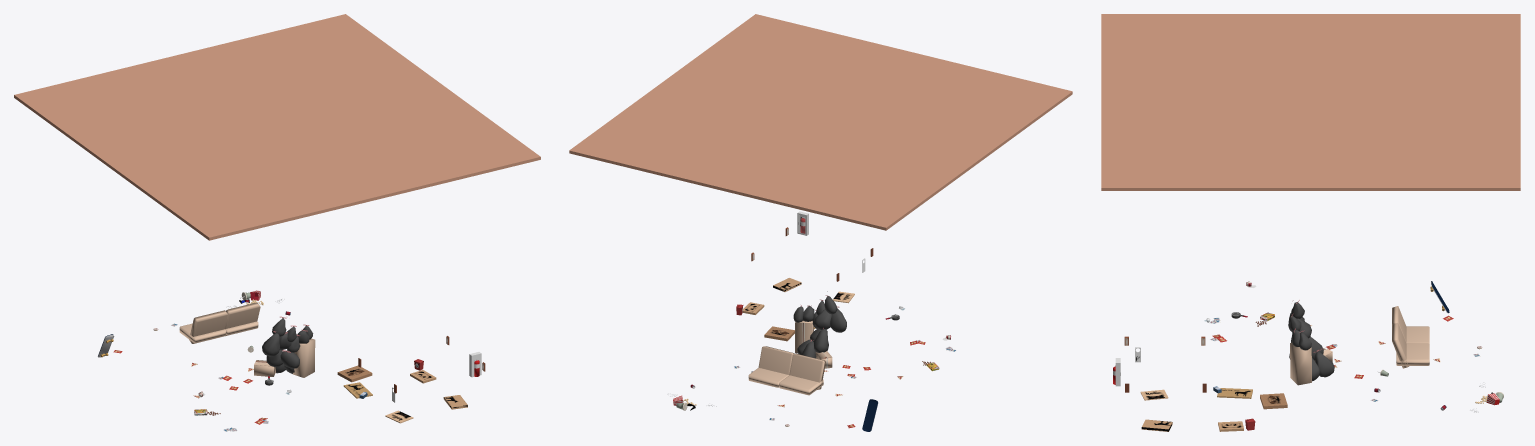
The model's file is MicahPushExtra.glb.
3 renders of one model, left to right at view 1: azimuth 30°, elevation 25°; view 2: azimuth 150°, elevation 25°; view 3: azimuth 270°, elevation 25°, orthographic. The views are drawn at different scales.
Visible parts, largest first — view 1: ceil, Pillows.002, Pillows.003, CardboardBoxSmall.001; view 2: ceil, Pillows.002, Pillows.003, Pillows, TrashBags.004, Pillows.001; view 3: ceil, CardboardBoxSmall.001, Pillows.001, TrashBags.002, Pillows.003, Pillows.
Boxes of the visible parts, x1,y1,x2,y2 form: ceil: [14, 14, 540, 240]; Pillows.002: [189, 310, 228, 343]; Pillows.003: [225, 302, 260, 335]; CardboardBoxSmall.001: [292, 338, 315, 377]; ceil: [569, 14, 1072, 230]; Pillows.002: [789, 353, 825, 389]; Pillows.003: [758, 346, 794, 374]; Pillows: [779, 375, 823, 395]; TrashBags.004: [814, 306, 846, 332]; Pillows.001: [748, 368, 788, 387]; ceil: [1101, 14, 1520, 190]; CardboardBoxSmall.001: [1290, 343, 1311, 385]; Pillows.001: [1396, 343, 1429, 365]; TrashBags.002: [1312, 348, 1334, 381]; Pillows.003: [1392, 323, 1409, 368]; Pillows: [1406, 326, 1429, 343].
Bounding box in the file's own units: 9.6 × 7 × 9.78.
15 materials, 14 textured.
